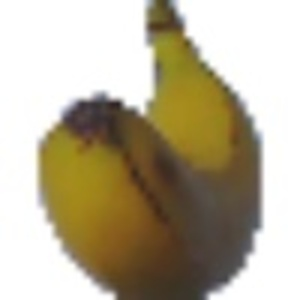banana: (29, 3, 267, 297)
